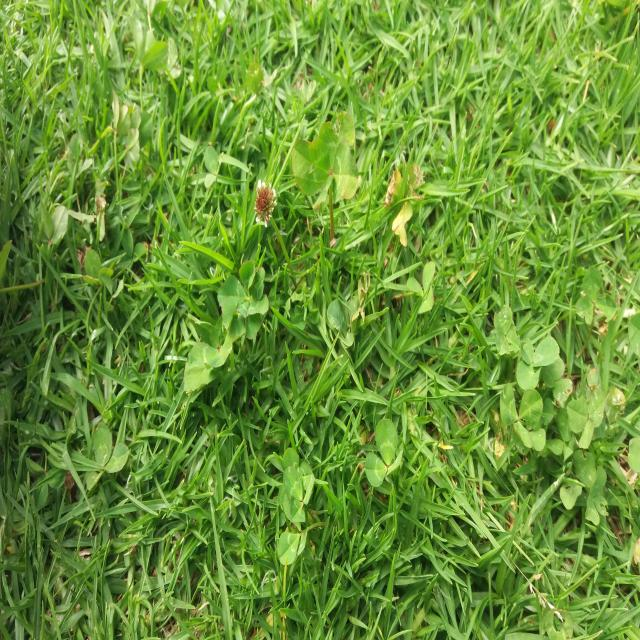Four Leaf Clover: (292, 111, 358, 216), (387, 244, 418, 277)
